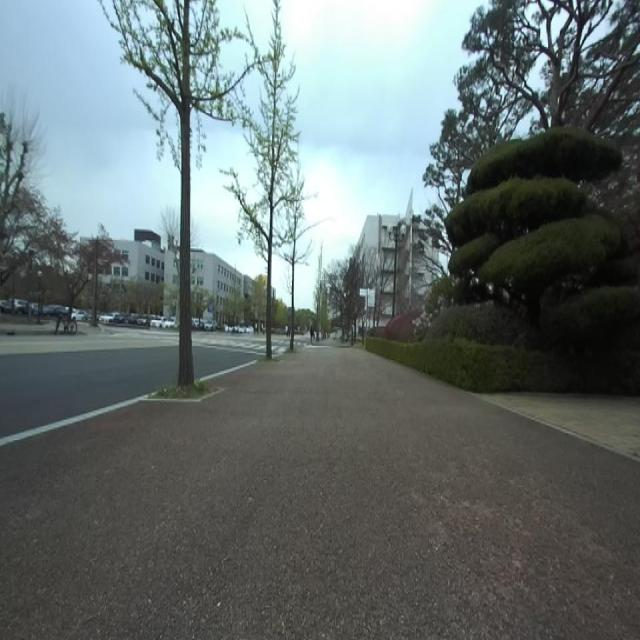sidewalk: (0, 343, 640, 638), (0, 396, 148, 446)
